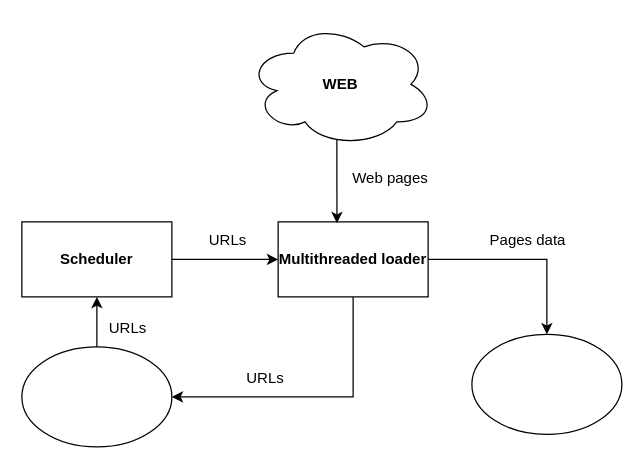
The diagram is 644 pixels wide and 469 high, and some of its shapes have lost their labels. Each missing label, with the box of its shape:
Queue: (21, 346, 172, 447)
Repository: (471, 333, 622, 434)
